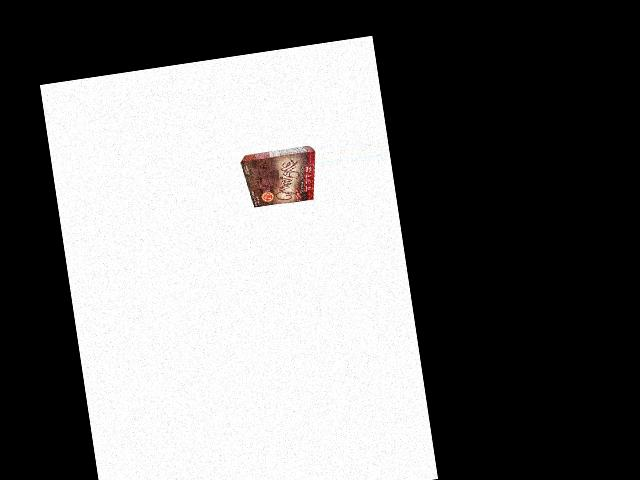chocolate: (239, 145, 320, 210)
